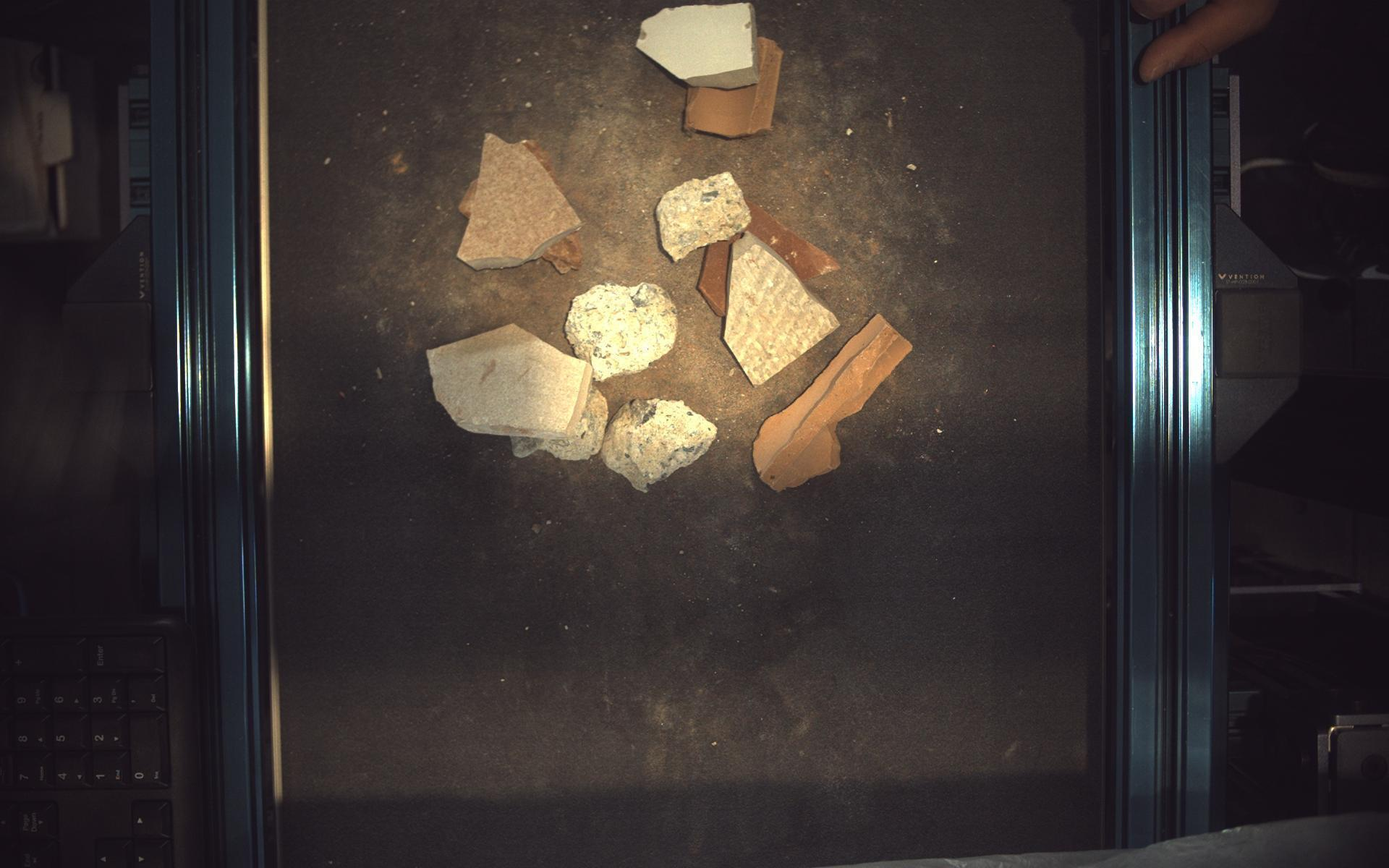brick: (753, 312, 914, 491), (684, 34, 785, 136), (746, 198, 841, 281), (697, 235, 736, 317)
concrete: (563, 280, 679, 381), (599, 397, 717, 493), (655, 169, 751, 261), (509, 383, 608, 461)
tile: (425, 321, 592, 439), (723, 230, 841, 386), (456, 130, 582, 272), (635, 1, 760, 88)
